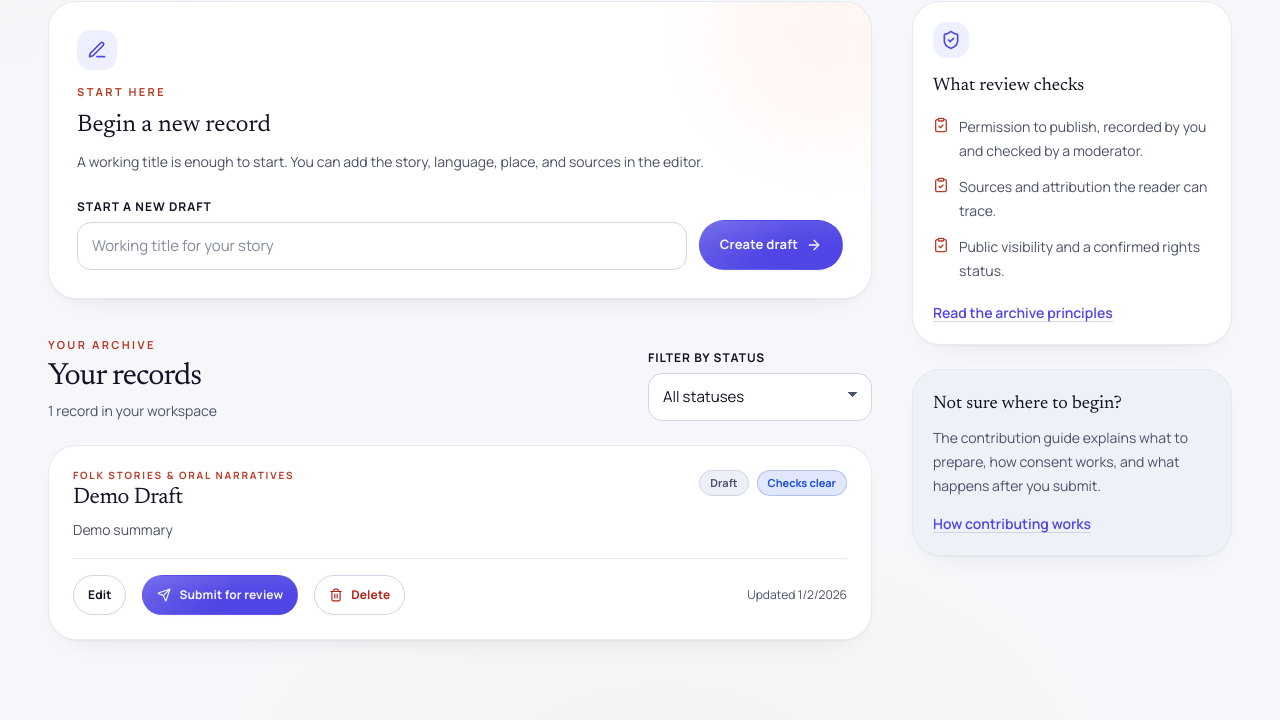
it: DashboardPage › deletes a draft only after confirmation
This screenshot has width=1280, height=720.
(page scrolled)
Expected: the link "Demo Draft" is shown, x1=73 y1=487 x2=183 y2=509
What coordinates should you click on to do the following:
click the button "Delete"
I would click on:
 (360, 595)
Its box is x1=314 y1=575 x2=405 y2=615.
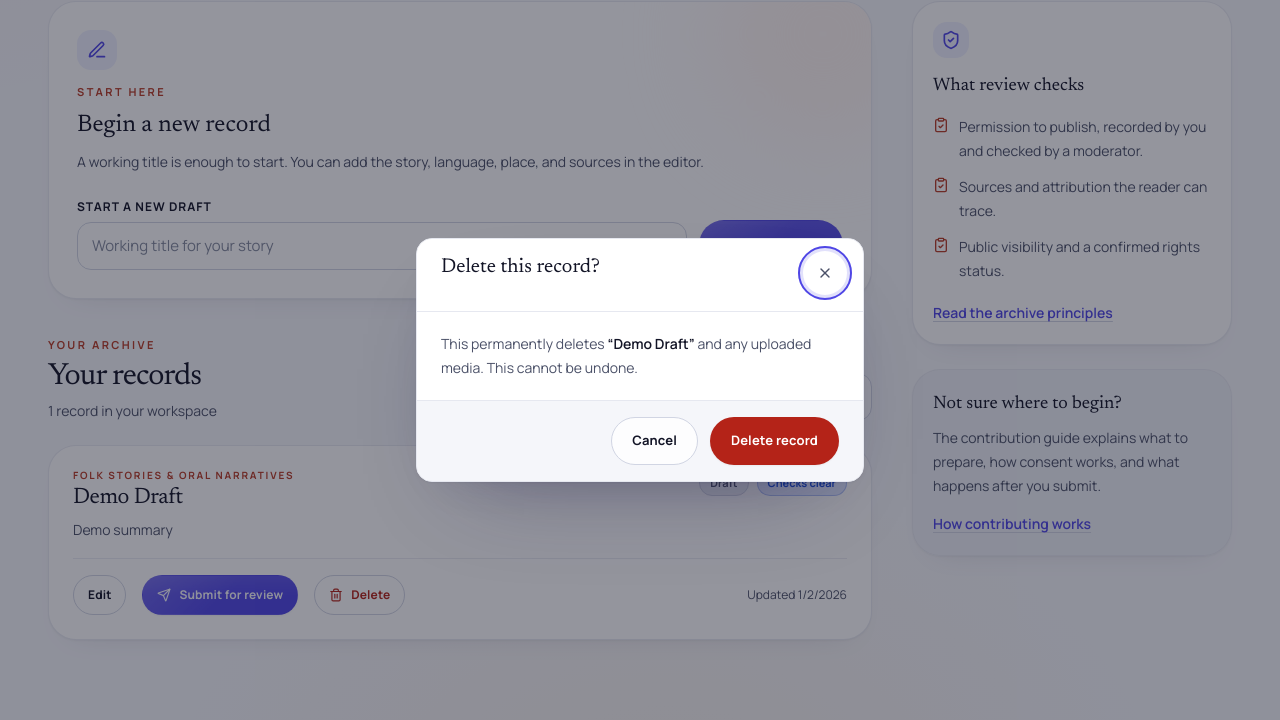
What coordinates should you click on to do the following:
click the button "Delete record"
I would click on:
 (774, 441)
Its box is x1=710 y1=417 x2=839 y2=465.
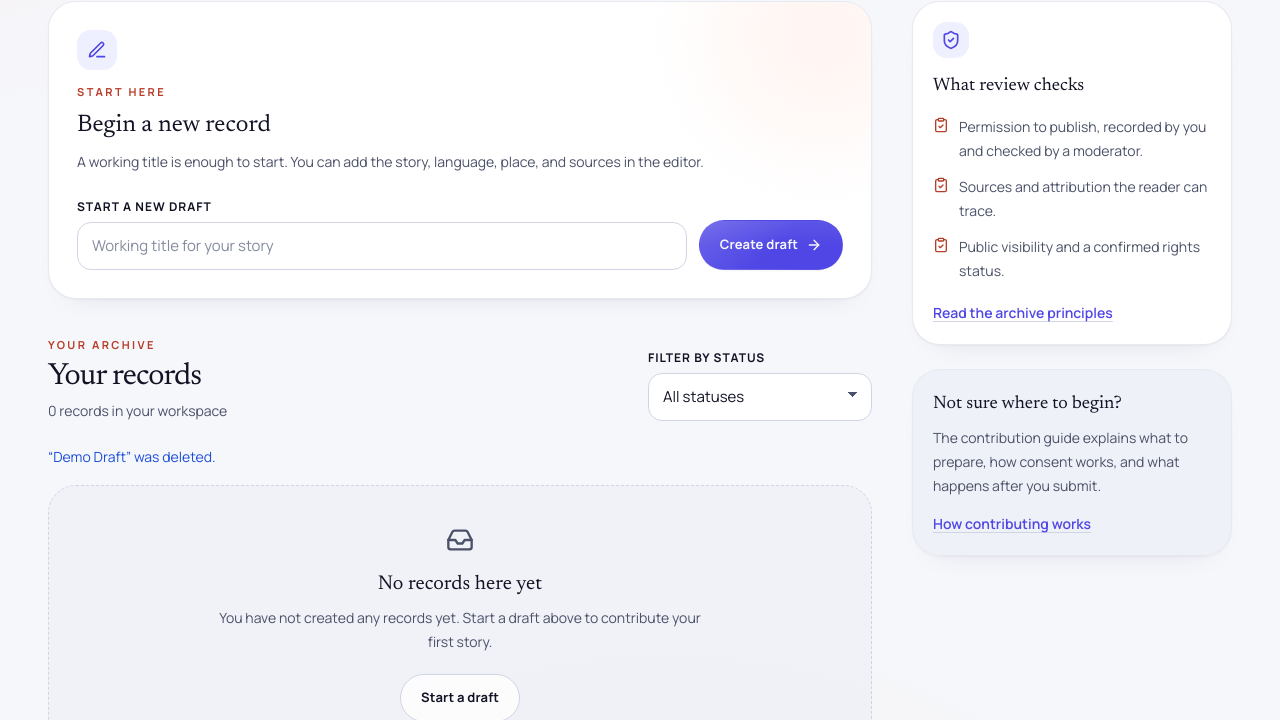
Now the text "You have not created any records yet" is shown, box x1=219 y1=608 x2=701 y2=651
